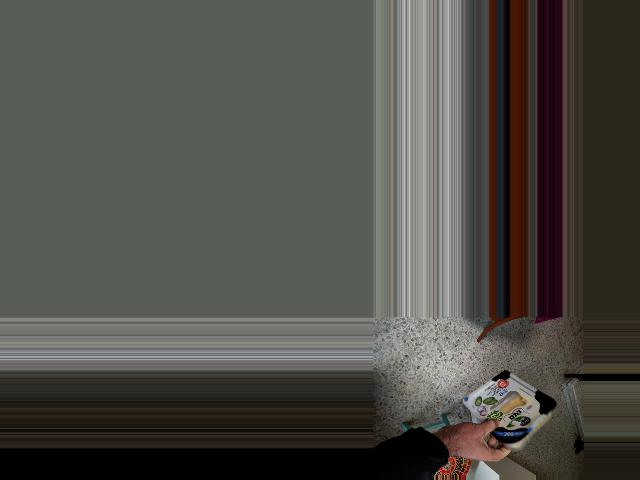cheese: (477, 361, 553, 467)
